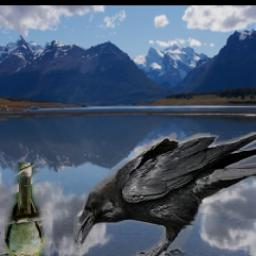Crow: (73, 133, 256, 256)
Cuckoo: (5, 164, 50, 256)
